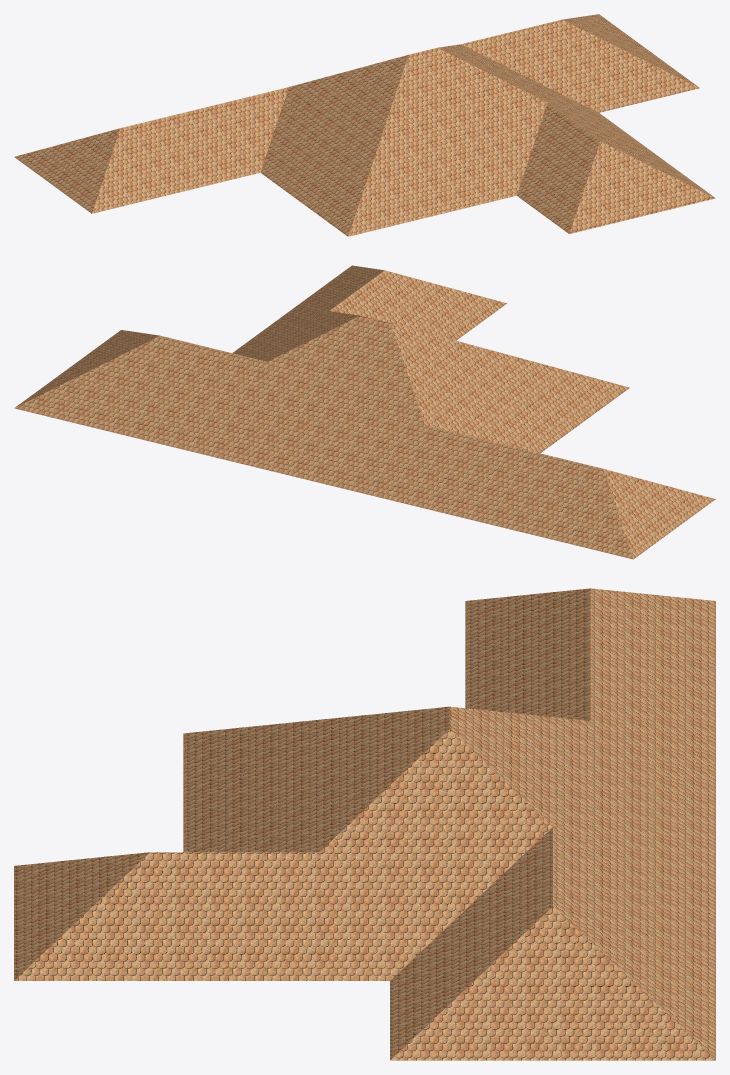
File: telhado37a.dae
3 views of the same model, one above another, from view 1: azimuth 30°, elevation 25°; view 2: azimuth 150°, elevation 25°; view 3: azimuth 270°, elevation 25° (orthographic). The views are drawn at different scales.
Parts seen in each view (by area): view 1: SketchUp; view 2: SketchUp; view 3: SketchUp.
Part boxes in pixels (x1=…): SketchUp: x1=14, y1=14, x2=715, y2=236; SketchUp: x1=14, y1=265, x2=715, y2=559; SketchUp: x1=14, y1=588, x2=715, y2=1060.
Bounding box in the file's own units: 683 × 441 × 96.6.
3 materials, 1 textured.
